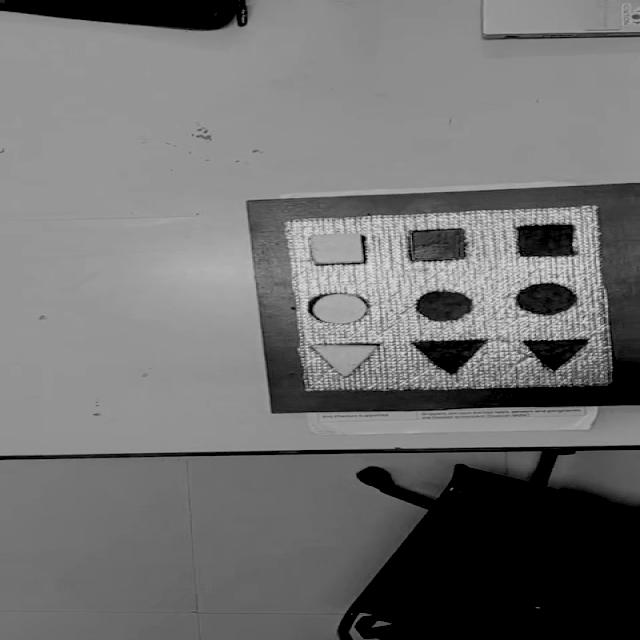mtcircle: (512, 282, 578, 316), (412, 291, 474, 323)
mtcube: (513, 224, 578, 258)
mttriangle: (408, 338, 491, 376), (518, 338, 590, 373)
rcube: (407, 228, 468, 262)
wb: (282, 206, 616, 392)
ycircle: (308, 292, 370, 326)
ycube: (306, 232, 368, 266)
ytriangle: (308, 342, 380, 379)
